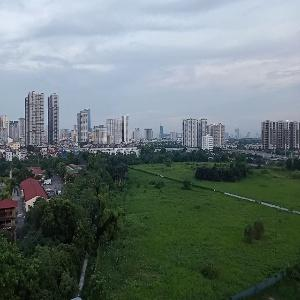drone: (16, 148, 74, 206)
